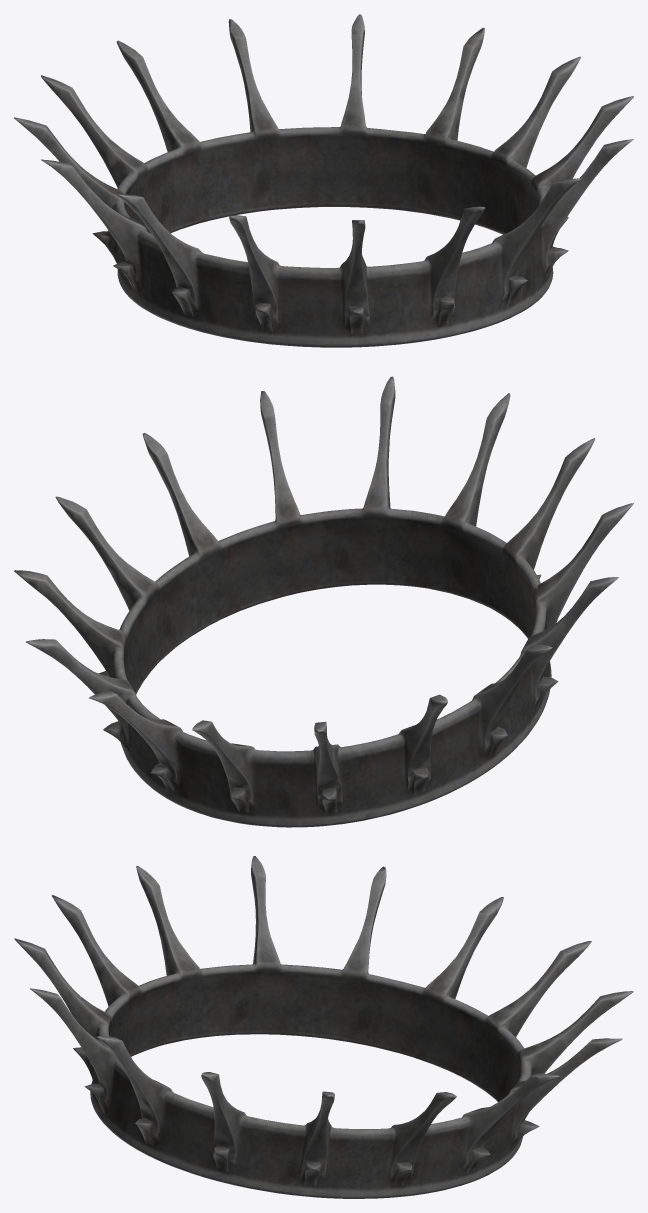
The picture shows the model from 3 angles, top to bottom: view 1: azimuth 30°, elevation 25°; view 2: azimuth 150°, elevation 25°; view 3: azimuth 270°, elevation 25°; orthographic projection. The views are drawn at different scales.
Parts seen in each view (by area): view 1: MERGE_copy000; view 2: MERGE_copy000; view 3: MERGE_copy000.
Part boxes in pixels (bbox=[...]): MERGE_copy000: bbox=[14, 14, 633, 347]; MERGE_copy000: bbox=[14, 376, 633, 827]; MERGE_copy000: bbox=[14, 856, 633, 1198].
Size of the model in its own units: 0.3144 by 0.1252 by 0.3593.
1 material, 1 textured.
